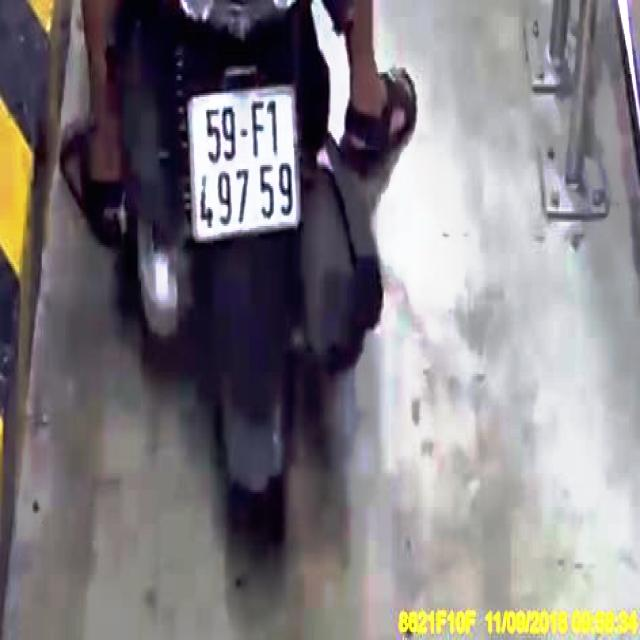license_plate: (187, 90, 302, 240)
